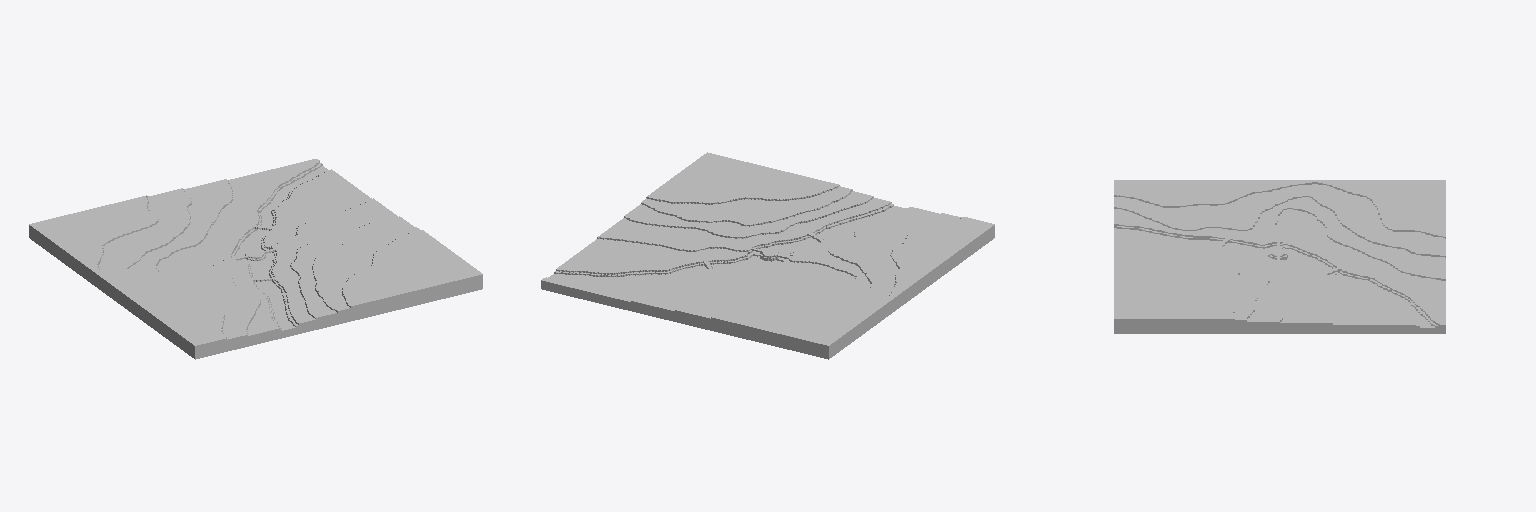
Rendered from Level-2-Map.vox.obj.
3 renders of one model, left to right at view 1: azimuth 30°, elevation 25°; view 2: azimuth 150°, elevation 25°; view 3: azimuth 270°, elevation 25°, orthographic.
Parts seen in each view (by area): view 1: object 1; view 2: object 1; view 3: object 1.
Part boxes in pixels (bbox=[...]): object 1: bbox=[29, 159, 482, 359]; object 1: bbox=[541, 152, 994, 359]; object 1: bbox=[1114, 180, 1445, 333].
Bounding box in the file's own units: 20 × 1 × 20.